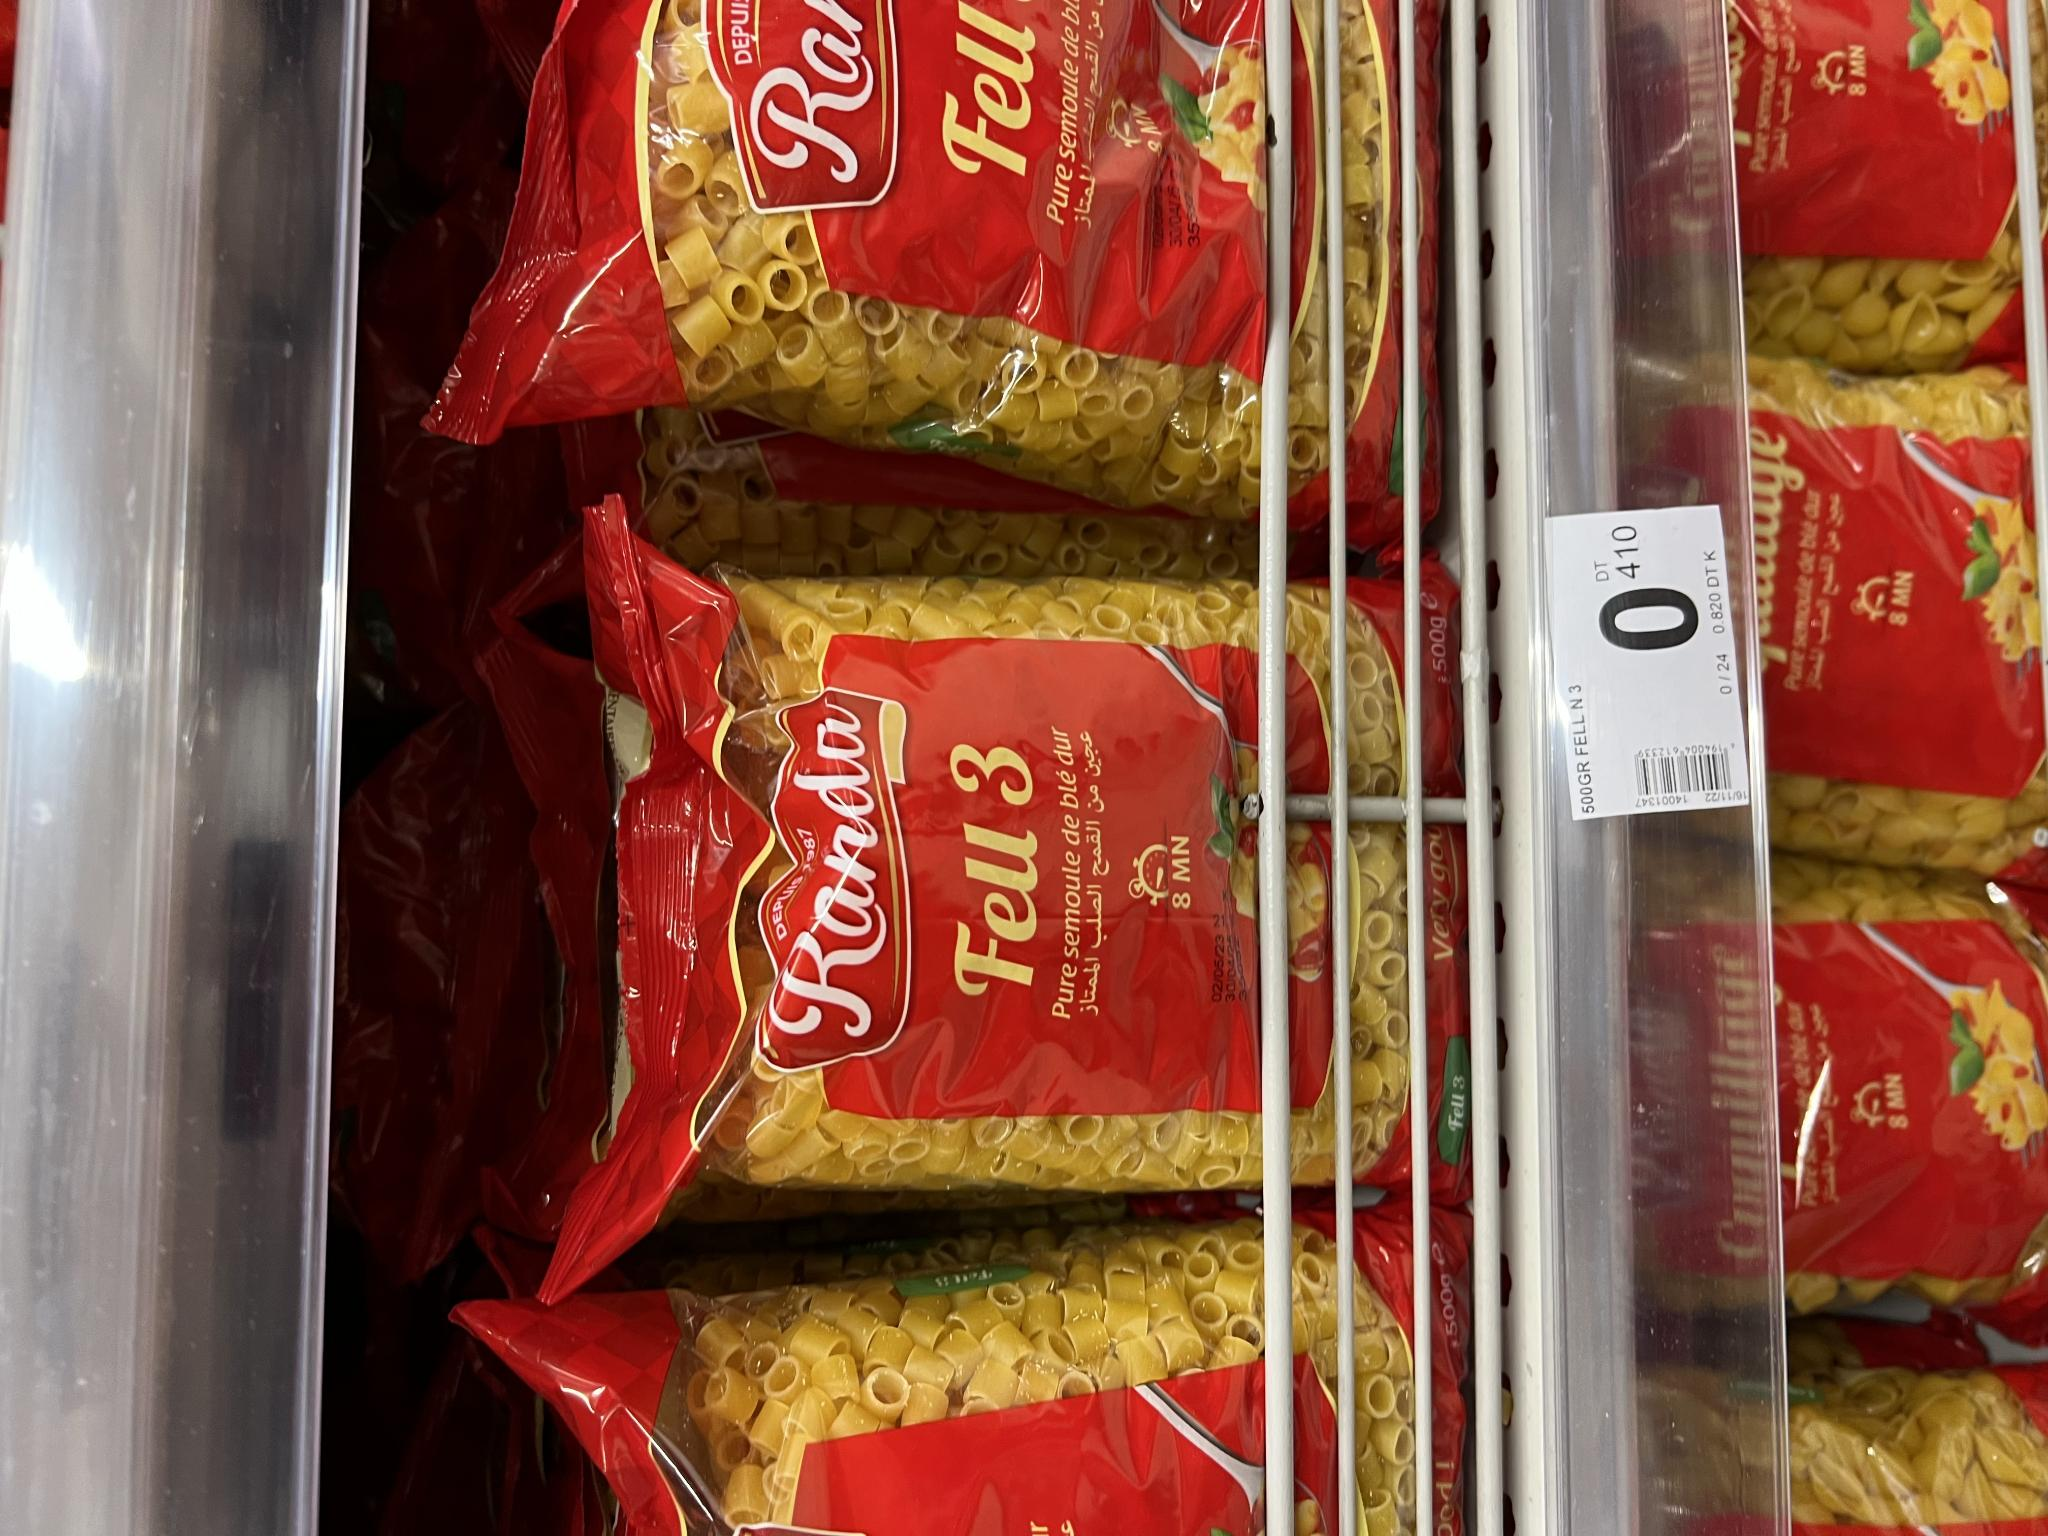Fell: (614, 549, 1413, 1246)
